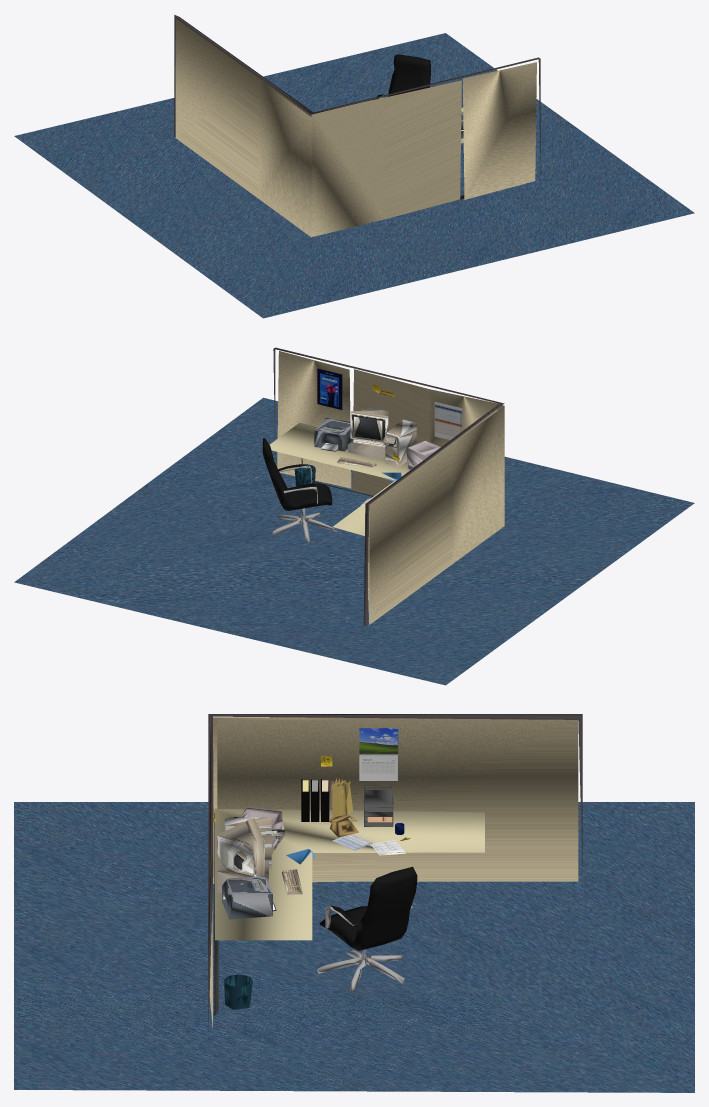
The model's file is office_lowpoly.glb.
3 renders of one model, top to bottom at view 1: azimuth 30°, elevation 25°; view 2: azimuth 150°, elevation 25°; view 3: azimuth 270°, elevation 25°, orthographic. The views are drawn at different scales.
Parts seen in each view (by area): view 1: object 2, object 4; view 2: object 2, object 1, object 4, object 3; view 3: object 2, object 1, object 4.
Part boxes in pixels (box(x1,y1,x2,y2)): object 2: box(14, 14, 694, 318); object 4: box(311, 54, 430, 115); object 2: box(14, 347, 694, 685); object 1: box(269, 418, 409, 535); object 4: box(262, 401, 462, 542); object 3: box(317, 368, 342, 409); object 2: box(14, 714, 694, 1092); object 1: box(214, 808, 484, 1015); object 4: box(224, 778, 417, 1009).
Size of the model in its own units: 12.92 by 3.57 by 12.92.
35 materials, 17 textured.
